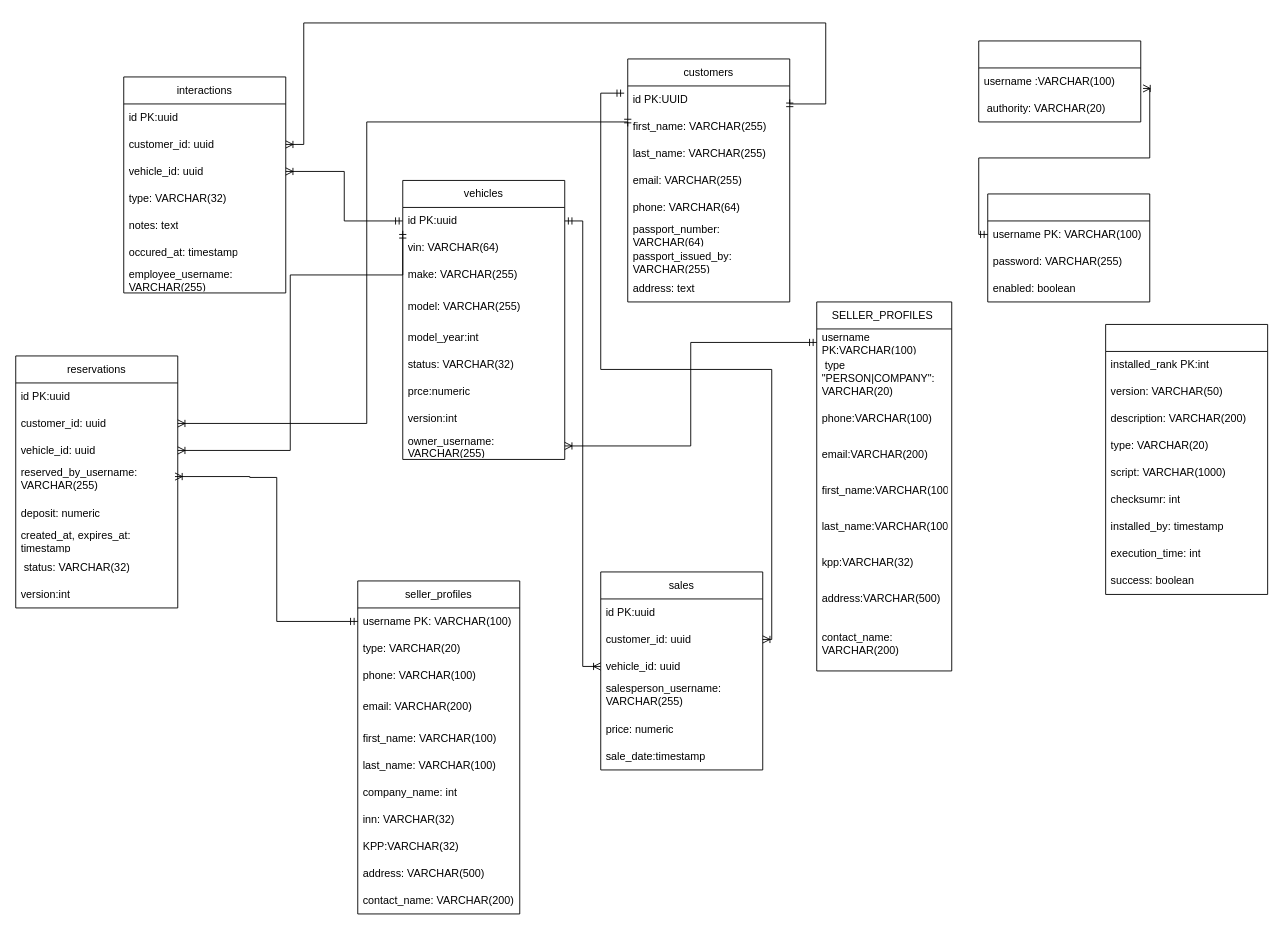
This 1283x930 diagram has some shape labels left out. The box of each missing label's shape, as (x1, y1, x2, y2) in pixels:
authorities: (978, 40, 1141, 122)
flyway_schema_history: (1105, 324, 1268, 594)
users: (987, 193, 1150, 302)
